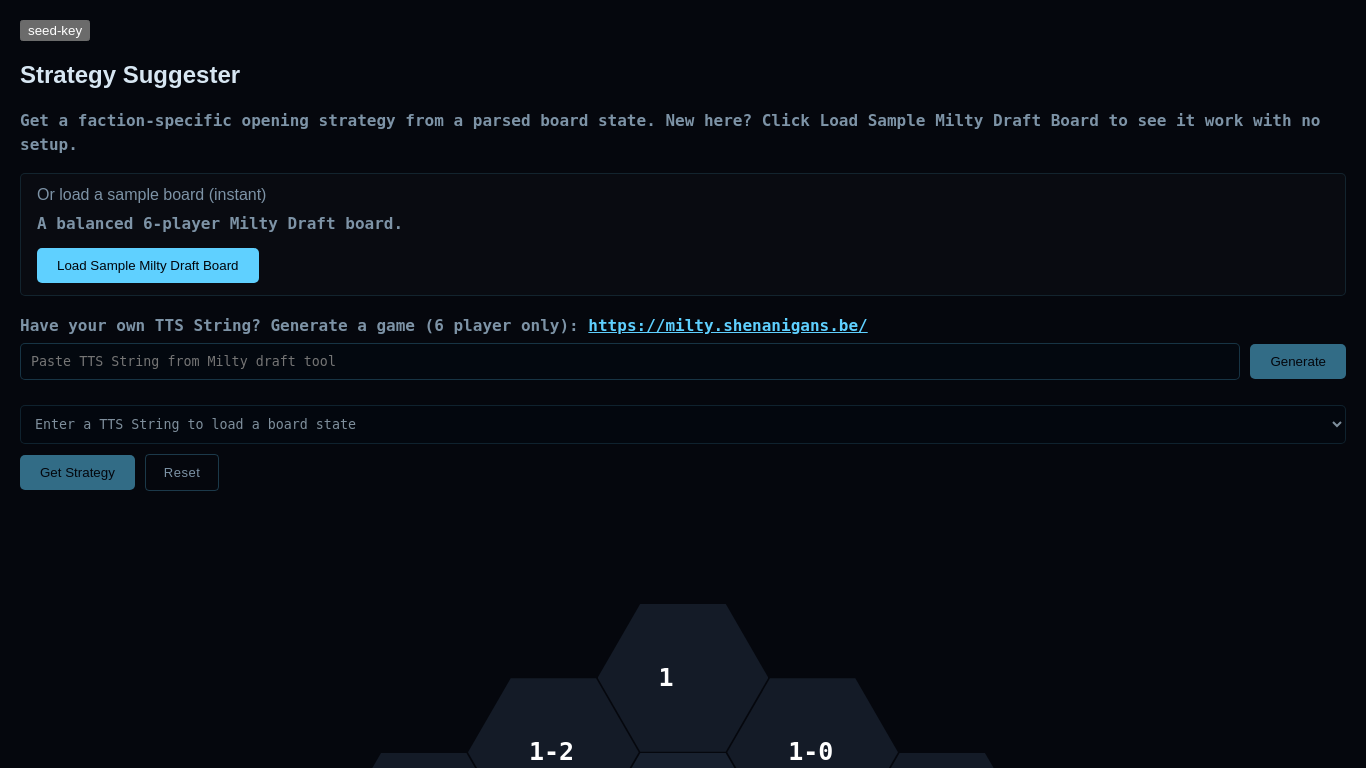
StrategyPanel › loads the demo board, auto-selects the faction, and shows the saved strategy
Click the button "Load Sample Milty Draft Board" at (148, 265), box [37,248,258,283]
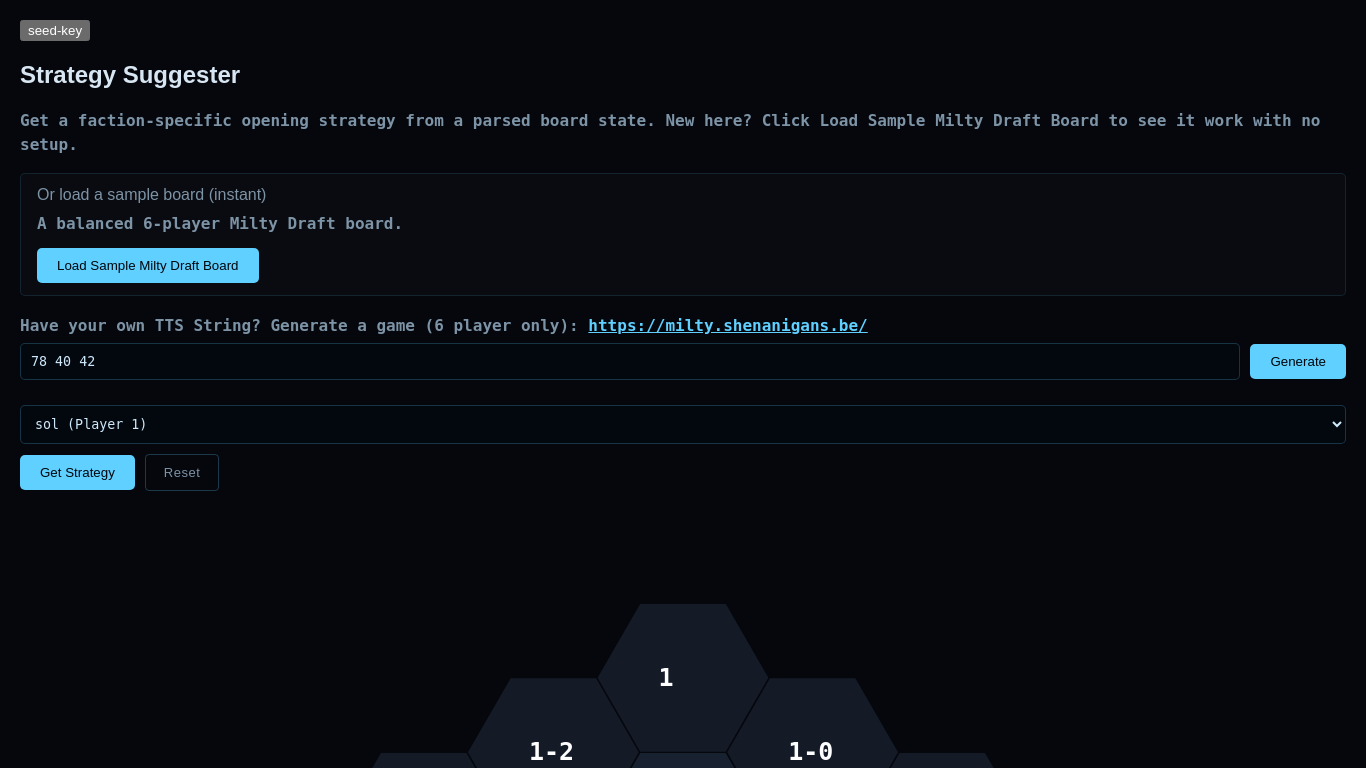
Now the dropdown named "Faction" shows "sol (Player 1)", box [20,405,1346,444]
